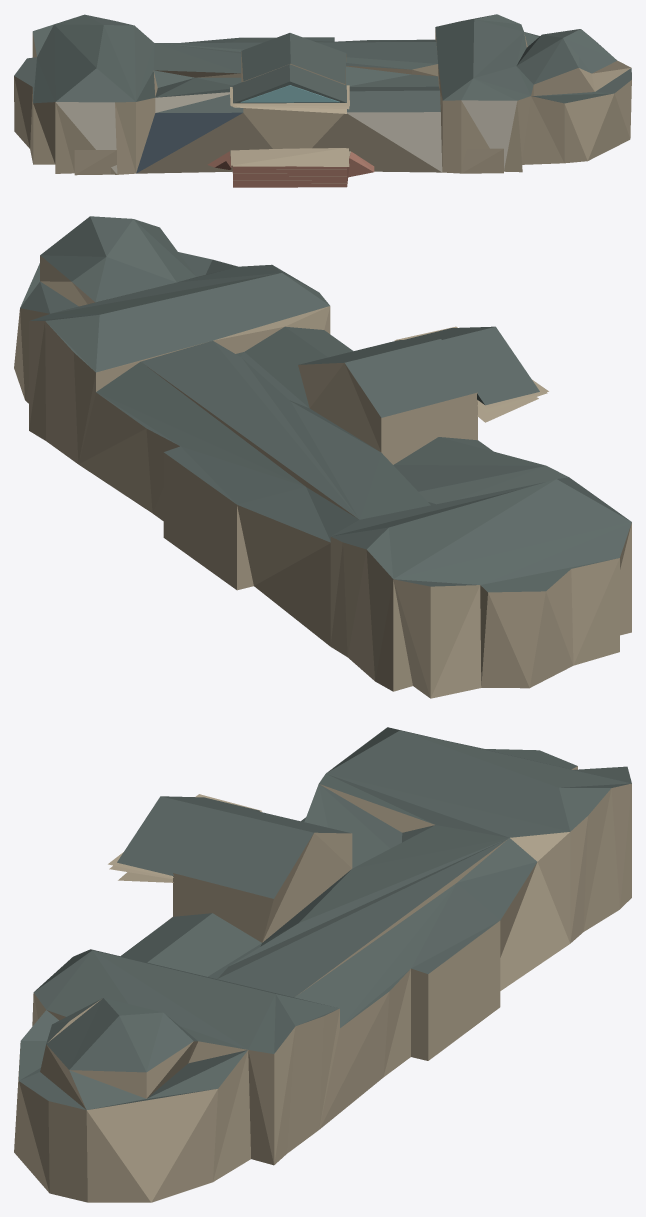
The model's file is artis-aquarium.lod2.glb.
3 renders of one model, top to bottom at view 1: azimuth 30°, elevation 25°; view 2: azimuth 150°, elevation 25°; view 3: azimuth 270°, elevation 25°, orthographic. The views are drawn at different scales.
Parts seen in each view (by area): view 1: lod2; view 2: lod2; view 3: lod2.
Part boxes in pixels (box(x1,y1,x2,y2)): lod2: box(14, 14, 631, 187); lod2: box(14, 216, 631, 698); lod2: box(14, 727, 631, 1202).
Bounding box in the file's own units: 79.89 × 16.79 × 56.42.
